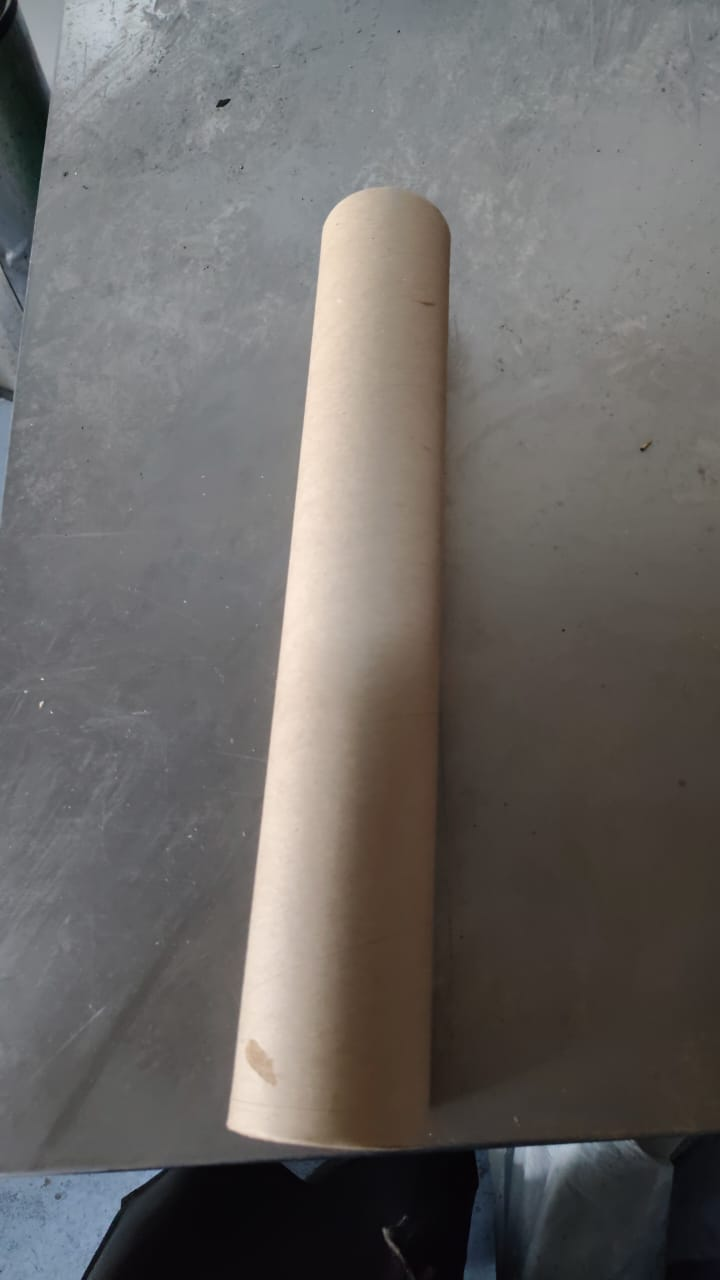Carton: (227, 189, 446, 1155)
